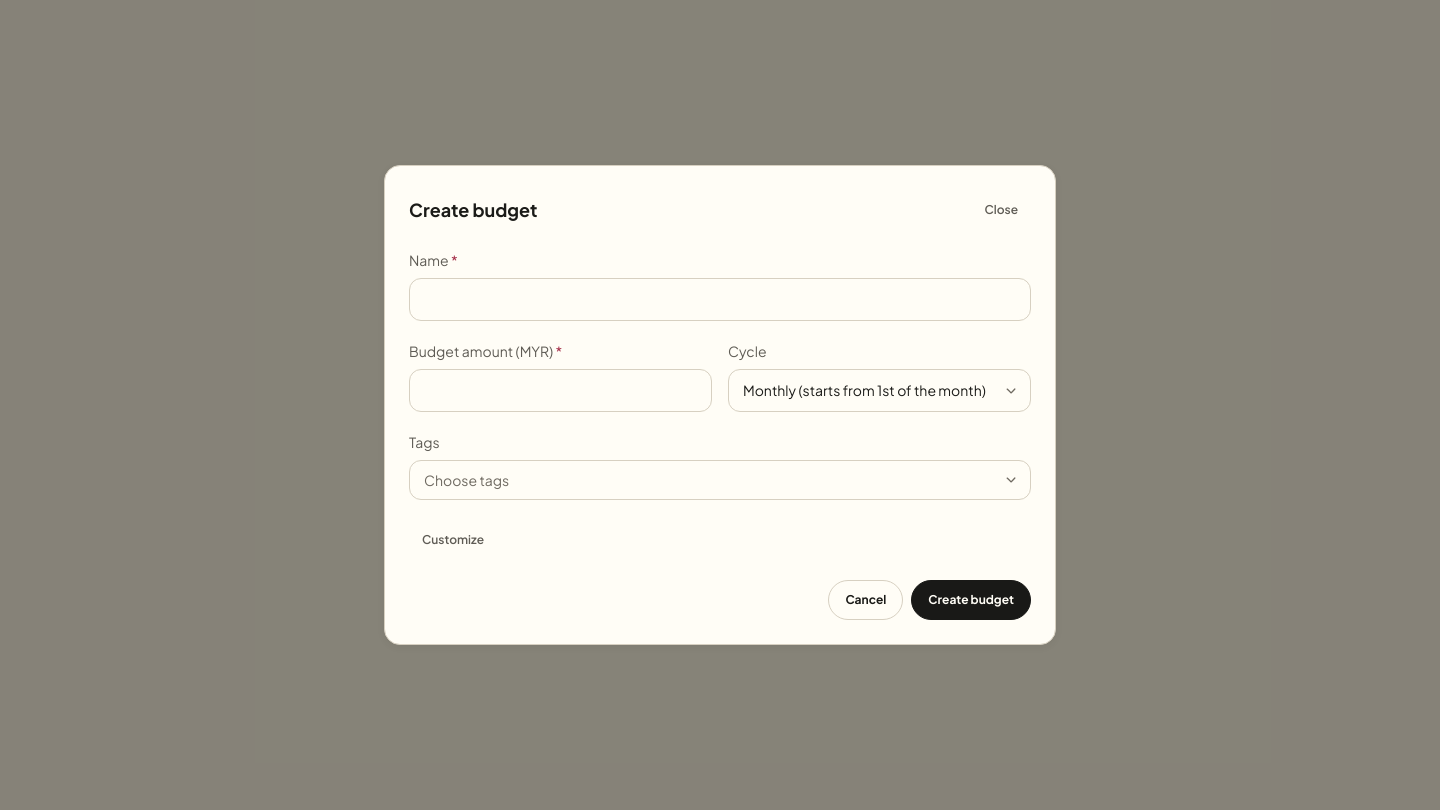
it: budget controls and feedback › starts with only basic controls and reveals customization on request
The width and height of the screenshot is (1440, 810).
expect the text "Start date" is not shown: met
expect the text "Sources" is not shown: met
Click the button "Customize". click: (453, 540)
box: [409,520,497,560]
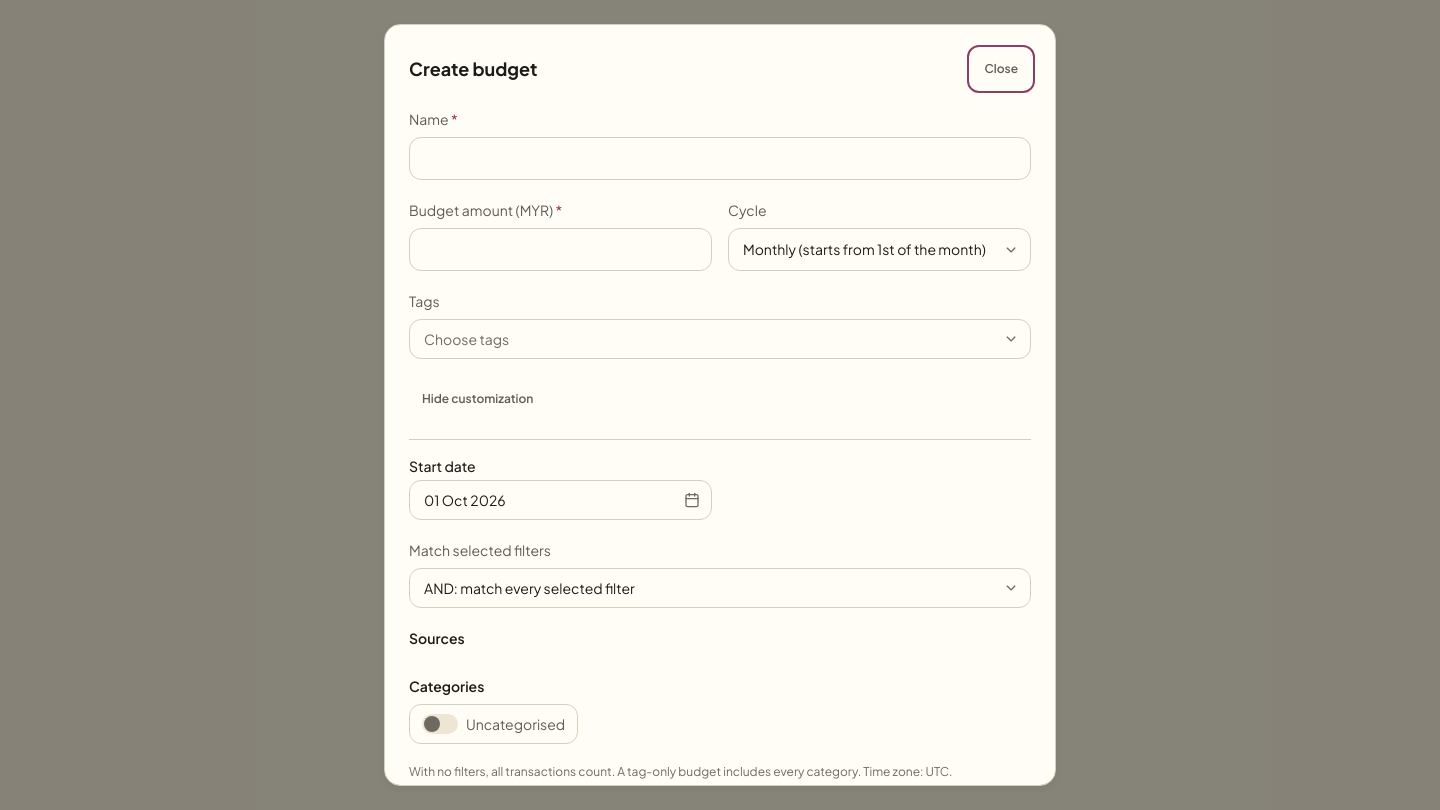
expect the text "Start date" is shown: met, box [409,457,476,475]
expect the text "Sources" is shown: met, box [409,628,465,648]
expect the text "Match selected filters" is shown: met, box [409,541,551,559]
